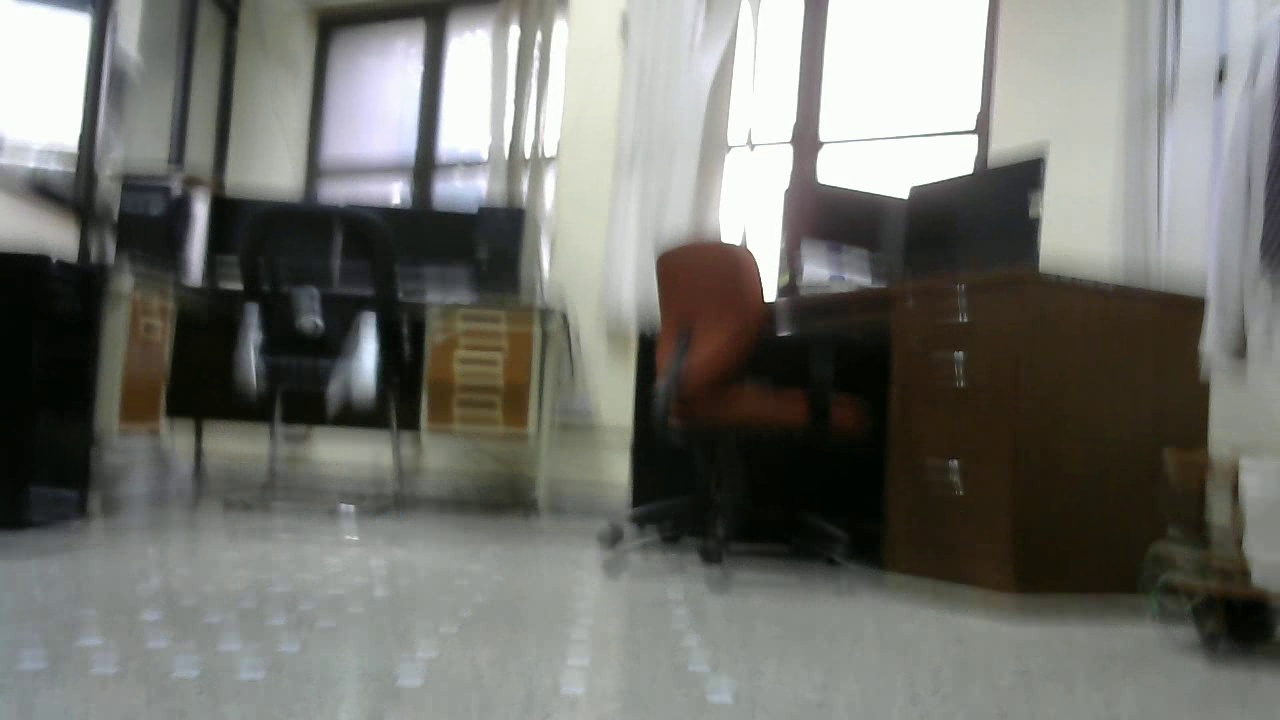chair: (584, 243, 875, 564), (226, 204, 418, 509)
